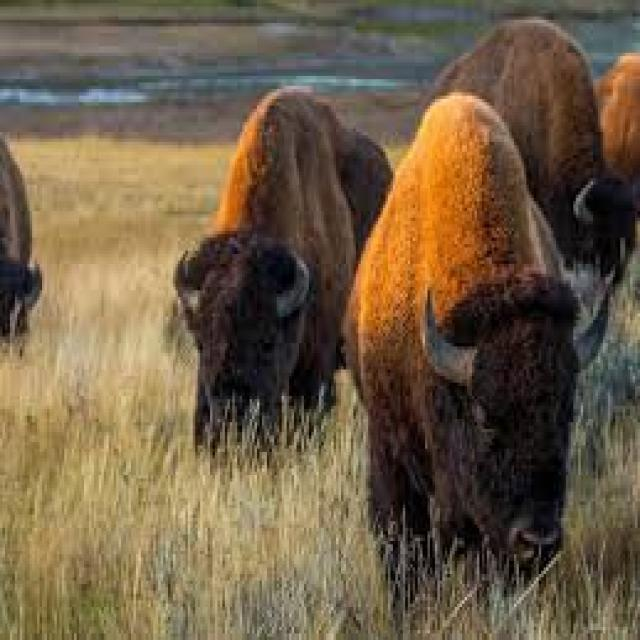Bison: (344, 88, 576, 595), (157, 70, 399, 474)
